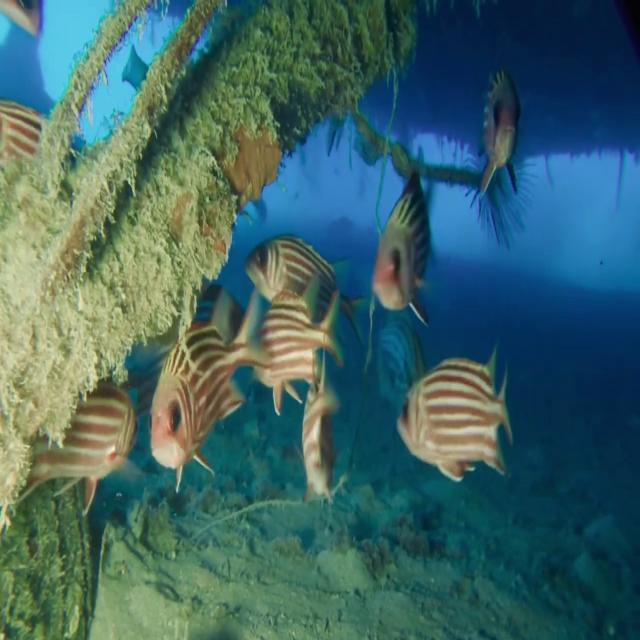Asker Baligi: (131, 287, 260, 511), (241, 210, 355, 412), (396, 342, 514, 484), (360, 164, 442, 346)
